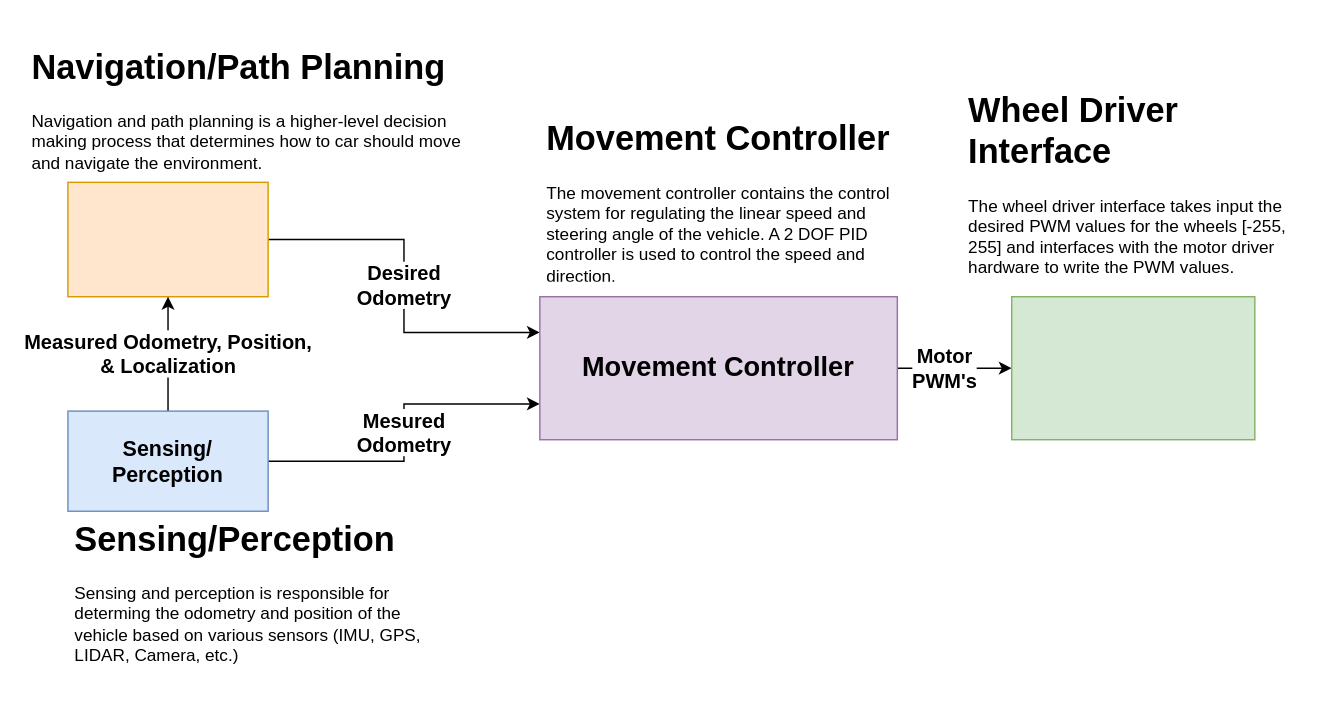
The diagram is 1330 pixels wide and 706 high, and some of its shapes have lost their labels. The centre of each missing label's shape, as x and y in pixels:
Navigation/Path Planning: the point at 167,239
Wheel Driver Interface: the point at 1132,367
